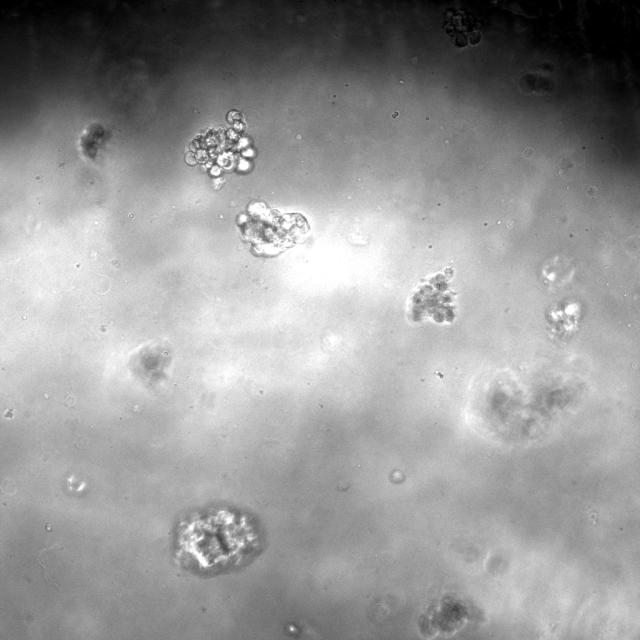organoid: (172, 503, 265, 577), (185, 110, 256, 188), (236, 200, 310, 256), (406, 267, 457, 325), (418, 594, 472, 639), (546, 299, 583, 342), (443, 9, 482, 48), (76, 121, 111, 161), (518, 72, 554, 95), (389, 468, 405, 483)
